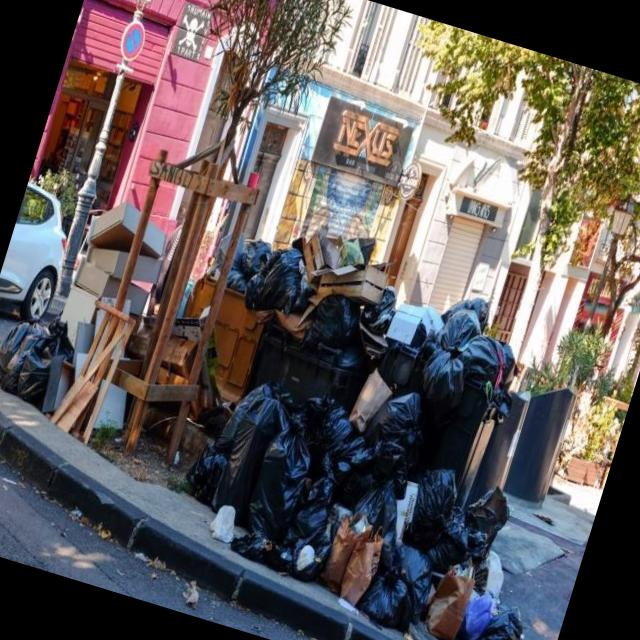high trash: (187, 234, 521, 640)
less trash: (0, 319, 73, 406)
